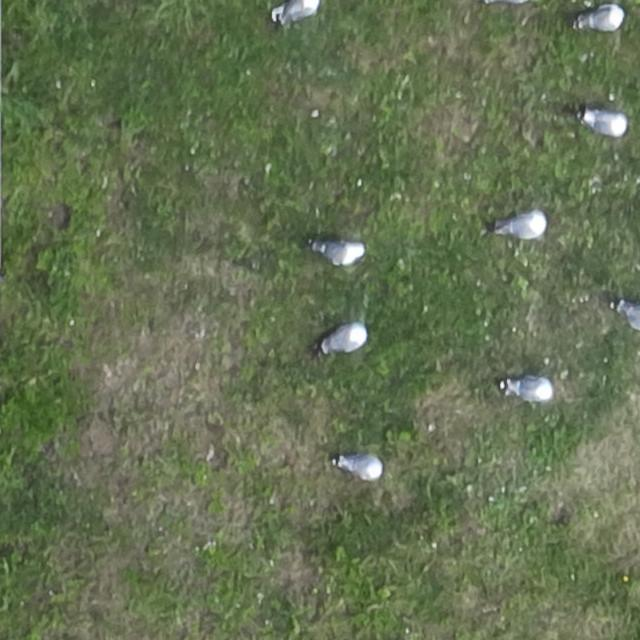umineko: (324, 323, 367, 351), (502, 213, 545, 238), (317, 241, 363, 263), (582, 7, 623, 31), (508, 378, 552, 400), (342, 457, 384, 480), (585, 112, 625, 136), (280, 1, 322, 21), (622, 303, 639, 332)
